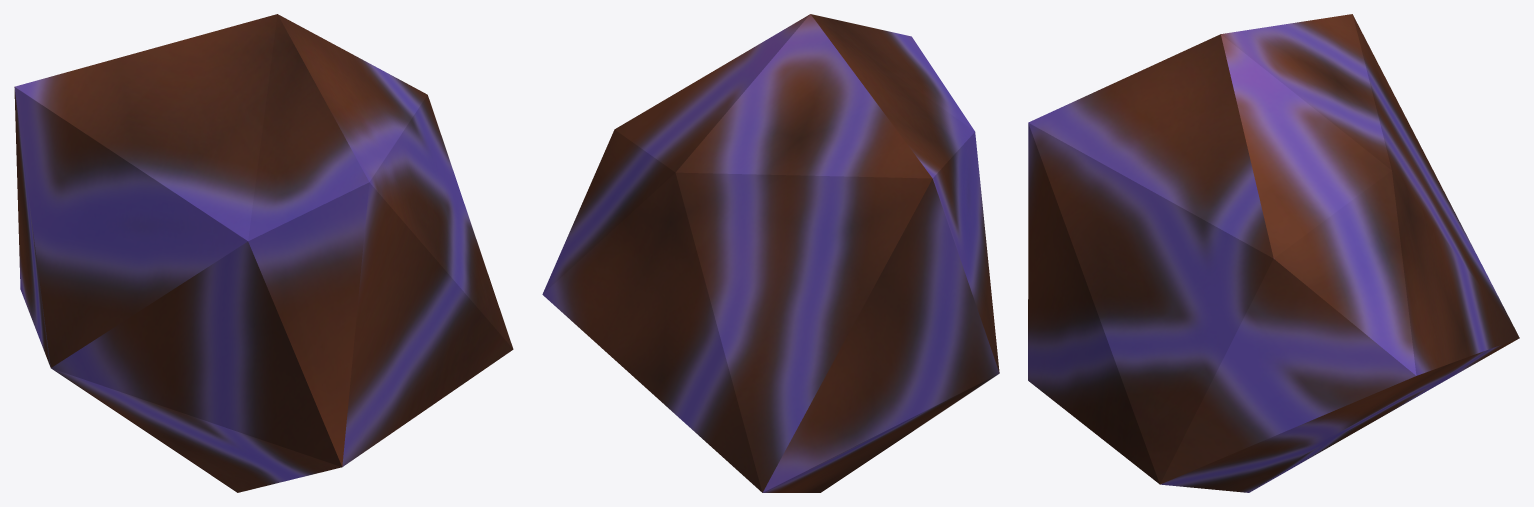
Rendered from asteroid.fbx.
The picture shows the model from 3 angles, left to right: view 1: azimuth 30°, elevation 25°; view 2: azimuth 150°, elevation 25°; view 3: azimuth 270°, elevation 25°; orthographic projection. The views are drawn at different scales.
Visible parts, largest first — view 1: Icosphere; view 2: Icosphere; view 3: Icosphere.
Boxes of the visible parts, x1,y1,x2,y2 form: Icosphere: (14, 14, 513, 492); Icosphere: (542, 14, 999, 492); Icosphere: (1028, 14, 1519, 492).
Bounding box in the file's own units: 2.43 × 2.69 × 2.55.
1 material, 1 textured.
